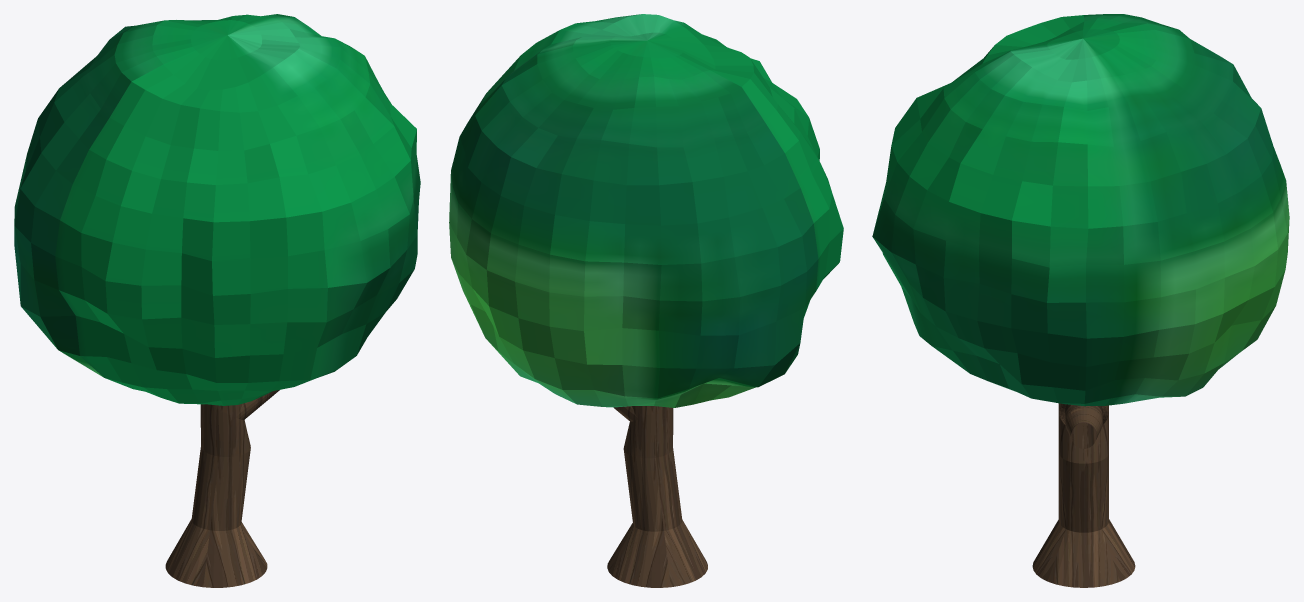
File: tree1.fbx
3 renders of one model, left to right at view 1: azimuth 30°, elevation 25°; view 2: azimuth 150°, elevation 25°; view 3: azimuth 270°, elevation 25°, orthographic.
Parts seen in each view (by area): view 1: leafs, tree; view 2: leafs, tree; view 3: leafs, tree.
Boxes of the visible parts, bbox=[...] form: leafs: bbox=[14, 14, 420, 405]; tree: bbox=[165, 390, 279, 587]; leafs: bbox=[449, 14, 843, 407]; tree: bbox=[607, 406, 707, 587]; leafs: bbox=[872, 14, 1289, 406]; tree: bbox=[1032, 403, 1135, 587].
Bounding box in the file's own units: 1637 × 2336 × 1658.
